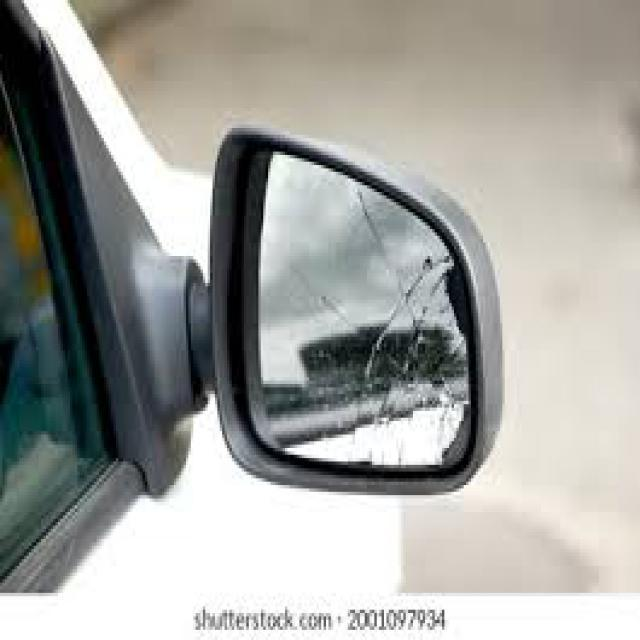Sidemirror-Damage: (208, 121, 496, 522)
